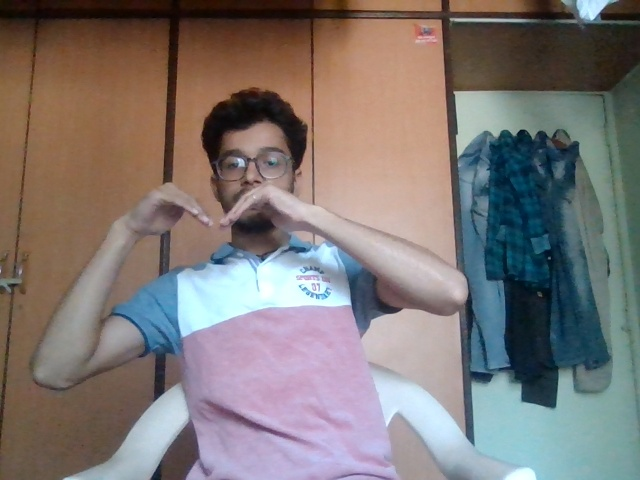we: (135, 171, 287, 259)
